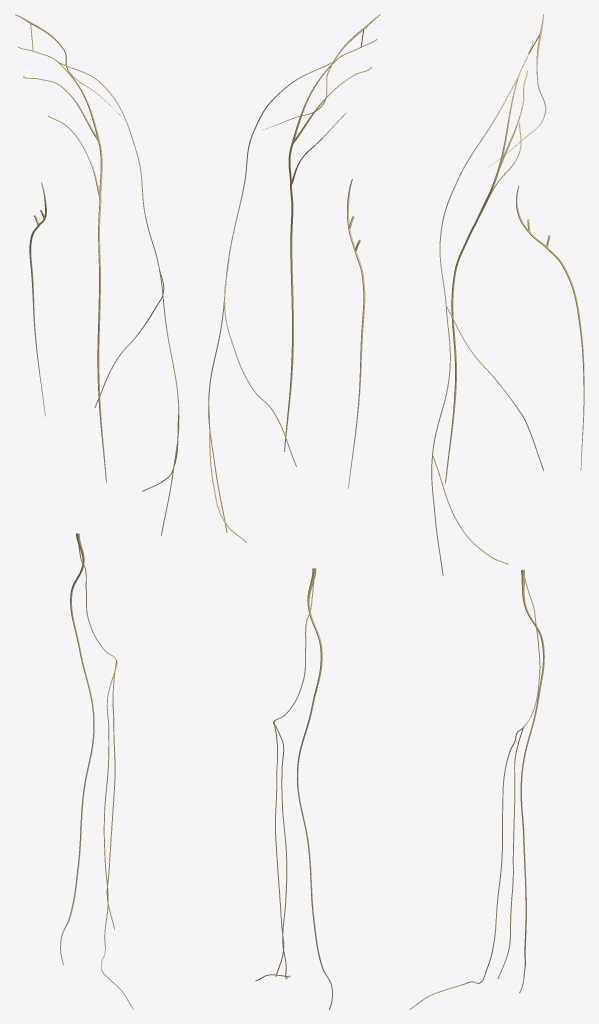
Rendered from lower-left.glb.
3 renders of one model, left to right at view 1: azimuth 30°, elevation 25°; view 2: azimuth 210°, elevation 25°; view 3: azimuth 270°, elevation 25°, orthographic. The views are drawn at different scales.
Visible parts, largest first — view 1: zanatomy_femoral-nerve-l, zanatomy_lateral-femoral-cutaneous-nerve-l, zanatomy_tibial-nerve-l, zanatomy_deep-fibular-nerve-l, zanatomy_posterior-femoral-cutaneous-nerve-l, zanatomy_superficial-fibular-nerve-l; view 2: zanatomy_femoral-nerve-l, zanatomy_lateral-femoral-cutaneous-nerve-l, zanatomy_tibial-nerve-l, zanatomy_posterior-femoral-cutaneous-nerve-l, zanatomy_deep-fibular-nerve-l, zanatomy_superficial-fibular-nerve-l; view 3: zanatomy_lateral-femoral-cutaneous-nerve-l, zanatomy_femoral-nerve-l, zanatomy_tibial-nerve-l, zanatomy_posterior-femoral-cutaneous-nerve-l, zanatomy_deep-fibular-nerve-l.
Boxes of the visible parts, box(x1,y1,x2,y2) form: zanatomy_femoral-nerve-l: box(18, 46, 106, 482); zanatomy_lateral-femoral-cutaneous-nerve-l: box(58, 62, 179, 535); zanatomy_tibial-nerve-l: box(60, 533, 94, 964); zanatomy_deep-fibular-nerve-l: box(101, 660, 133, 1009); zanatomy_posterior-femoral-cutaneous-nerve-l: box(29, 182, 46, 416); zanatomy_superficial-fibular-nerve-l: box(106, 660, 116, 929); zanatomy_femoral-nerve-l: box(284, 39, 377, 451); zanatomy_lateral-femoral-cutaneous-nerve-l: box(208, 61, 334, 542); zanatomy_tibial-nerve-l: box(296, 568, 332, 1009); zanatomy_posterior-femoral-cutaneous-nerve-l: box(347, 179, 365, 488); zanatomy_deep-fibular-nerve-l: box(255, 722, 290, 981); zanatomy_superficial-fibular-nerve-l: box(273, 722, 284, 976); zanatomy_lateral-femoral-cutaneous-nerve-l: box(431, 76, 544, 575); zanatomy_femoral-nerve-l: box(445, 41, 533, 483); zanatomy_tibial-nerve-l: box(519, 569, 544, 993); zanatomy_posterior-femoral-cutaneous-nerve-l: box(516, 185, 584, 470); zanatomy_deep-fibular-nerve-l: box(409, 727, 523, 1009).
Size of the model in its own units: 0.1471 by 1.08 by 0.1772.
